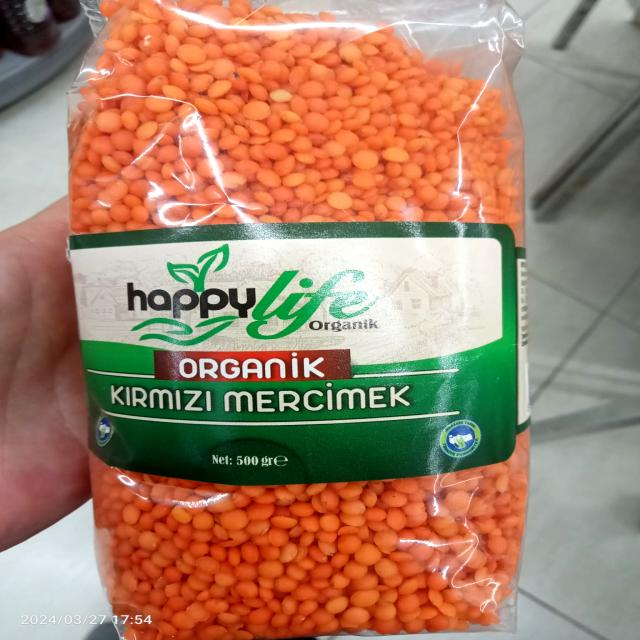red lentils: (64, 1, 540, 640)
